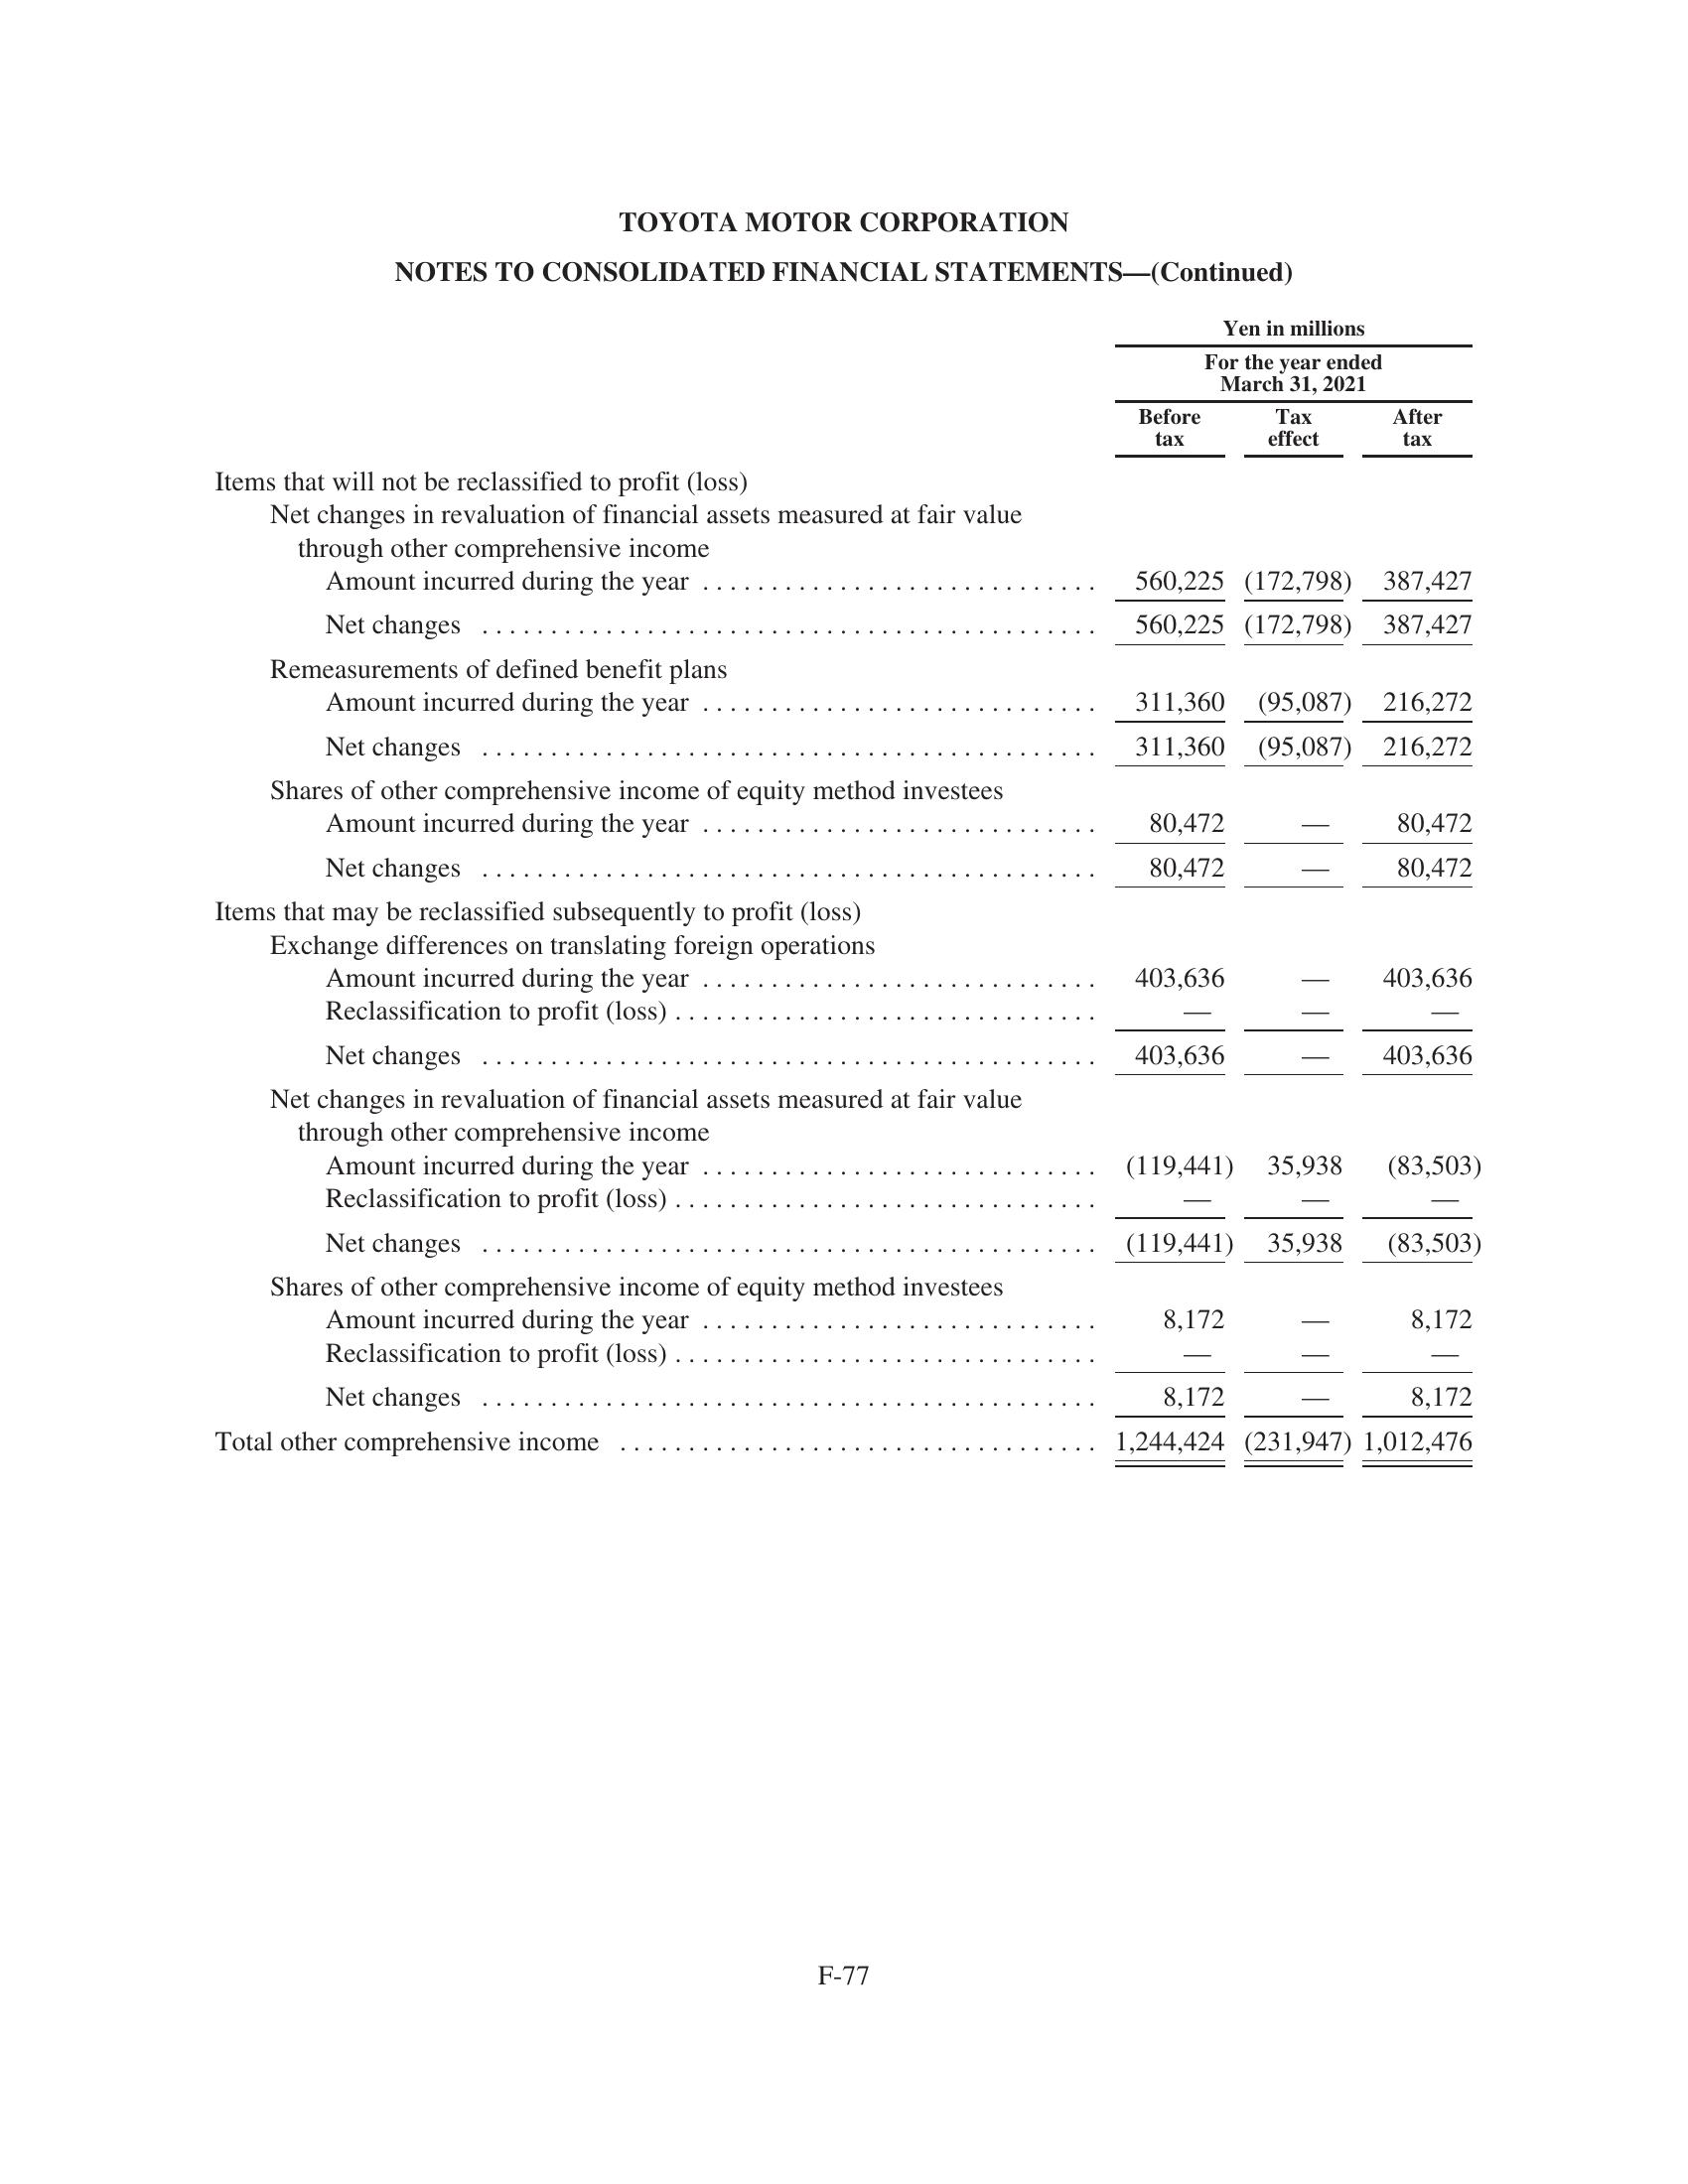Footer: (0, 1954, 1688, 2184)
Header: (0, 0, 1688, 175)
Table: (133, 307, 1509, 1494)
